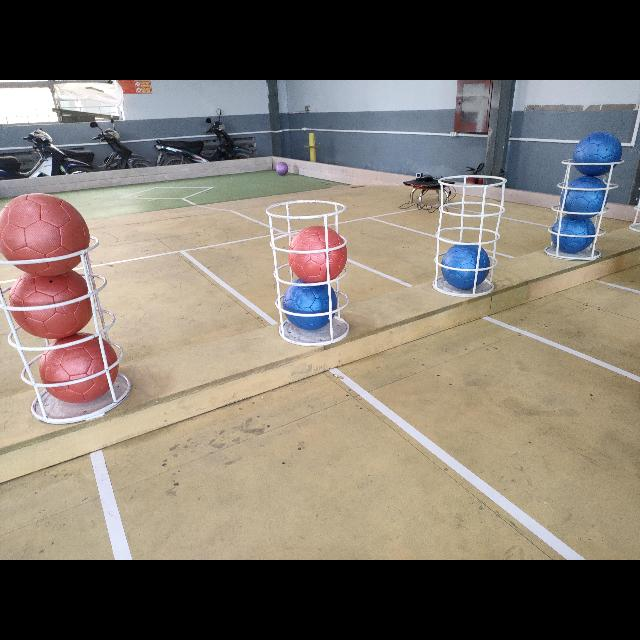B: (284, 282, 336, 332), (573, 131, 623, 177), (442, 243, 491, 289), (552, 213, 596, 257), (562, 177, 608, 219)
R: (0, 194, 94, 274), (41, 334, 121, 404), (9, 271, 93, 337), (286, 224, 348, 282)
